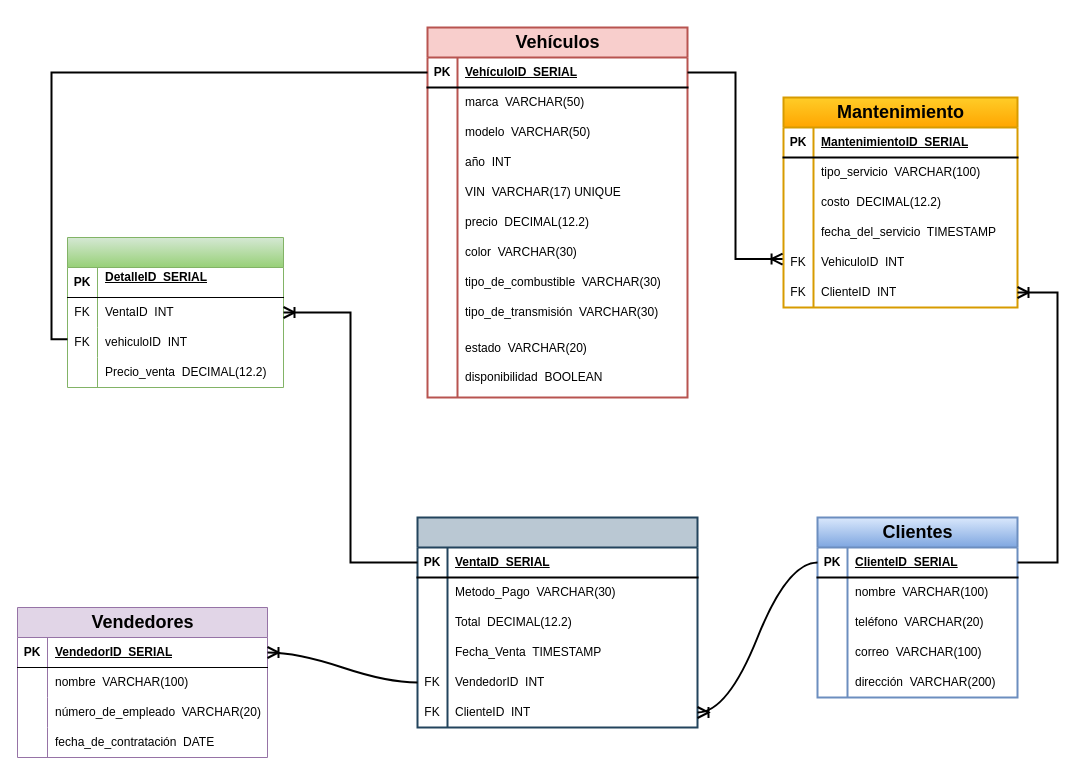
This 1086x776 diagram has some shape labels left out. Here are the shapes that lost their labels. From the top down, the box of each, then its label:
(66, 236, 284, 388): Detalle_Venta
(416, 516, 698, 728): Ventas
